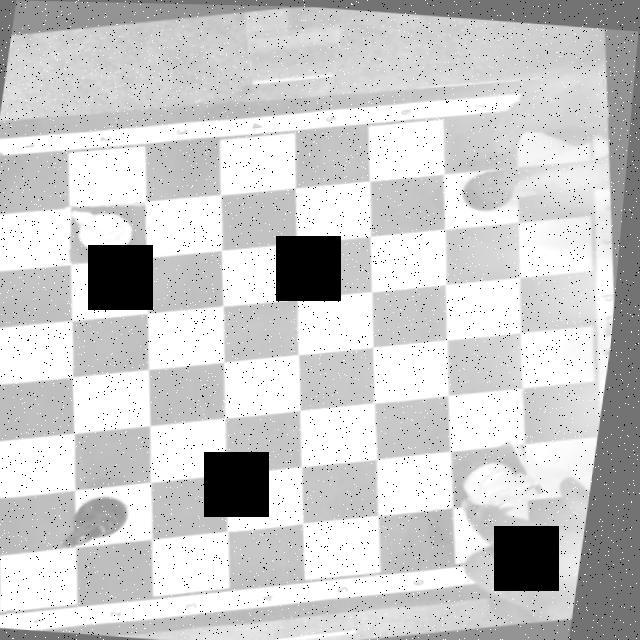chess-table-corners: (545, 74, 615, 128), (0, 595, 30, 629), (574, 532, 594, 582), (0, 139, 10, 180)
